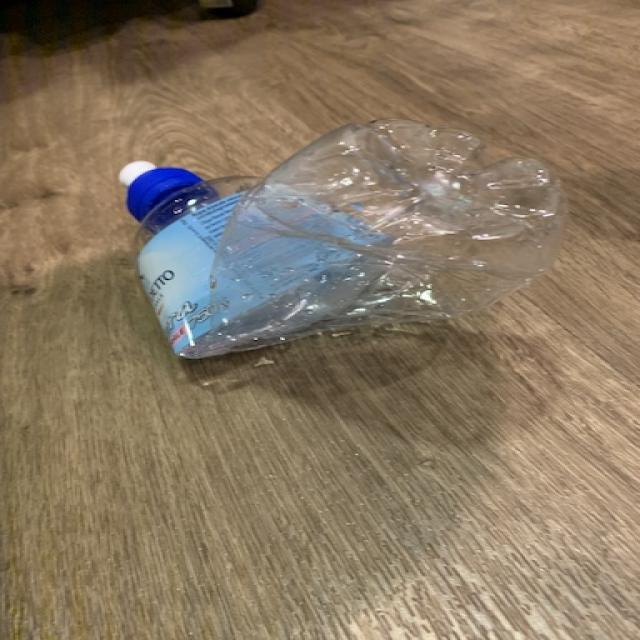Waste: (120, 119, 567, 358)
